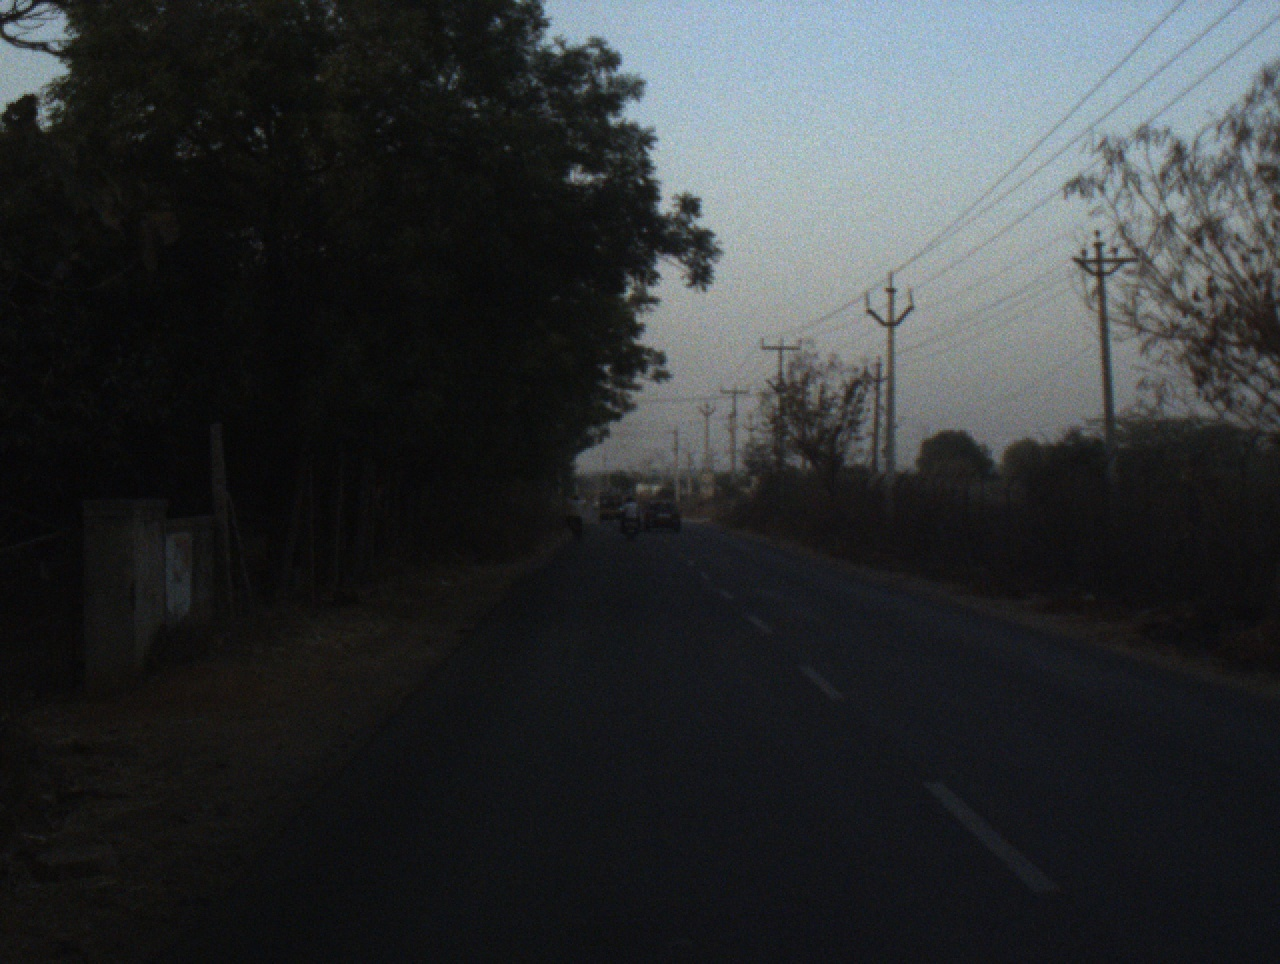autorickshaw: (597, 489, 622, 522)
bicycle: (566, 516, 585, 542)
car: (641, 496, 685, 533)
motorcycle: (618, 518, 643, 540)
rider: (618, 496, 640, 534), (565, 490, 585, 529)
